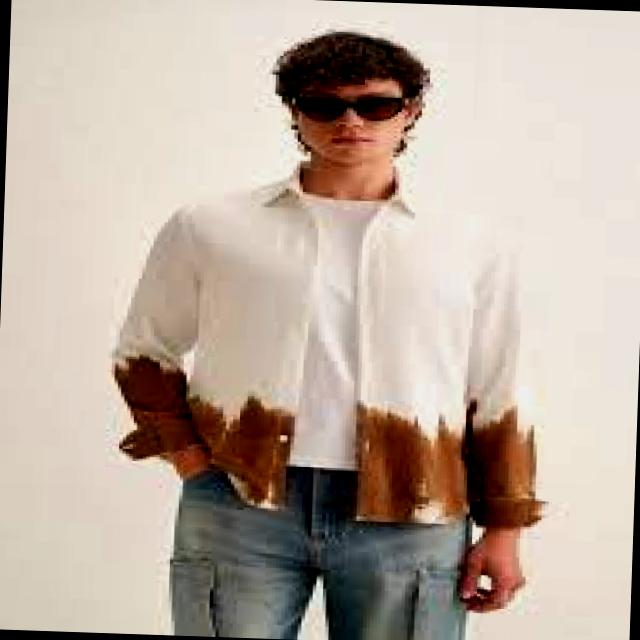face: (289, 102, 422, 165)
lower-wear: (169, 466, 473, 639)
top-wear: (108, 146, 566, 525)
